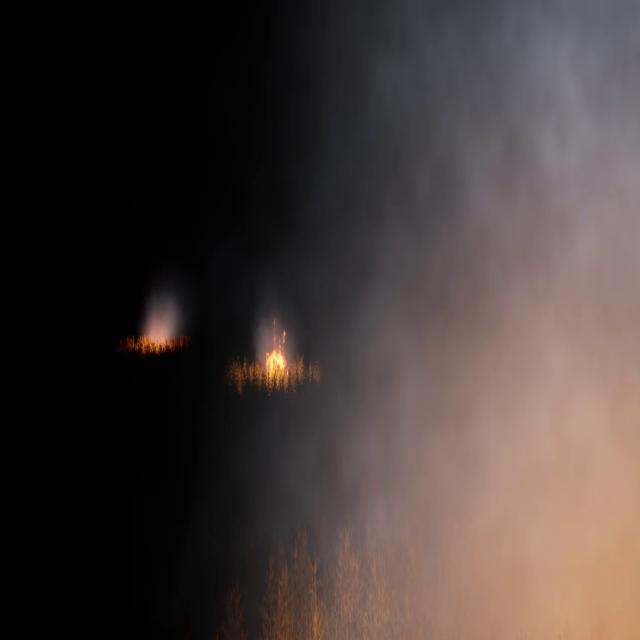fire: (263, 327, 287, 376)
smoke: (274, 0, 640, 639), (250, 305, 294, 371), (138, 290, 183, 354)
